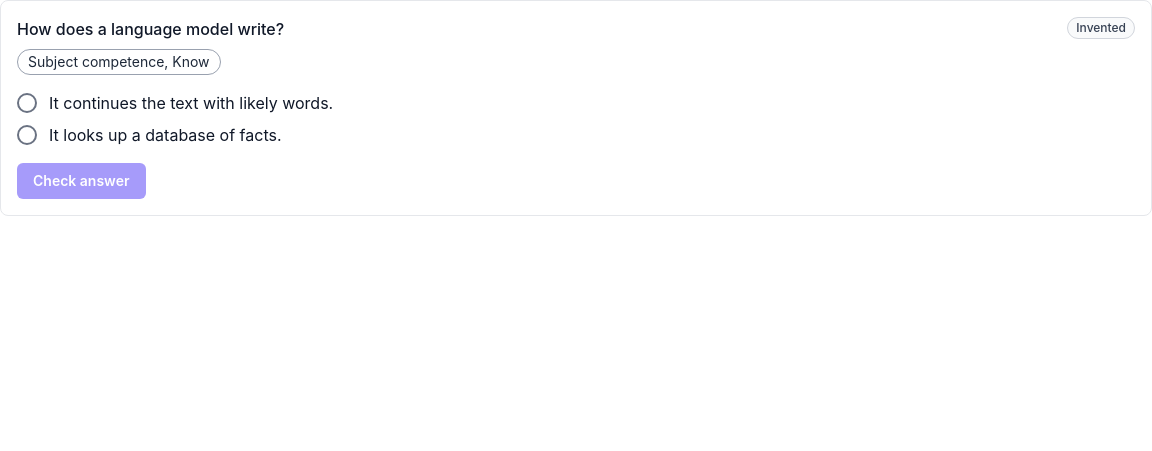
it: SingleChoiceItem › a wrong answer marks the chosen option and the correct one
Click the radio button named "It looks up a database of facts." next to "It looks up a database of facts.".
click(27, 135)  # box [17,125,37,145]
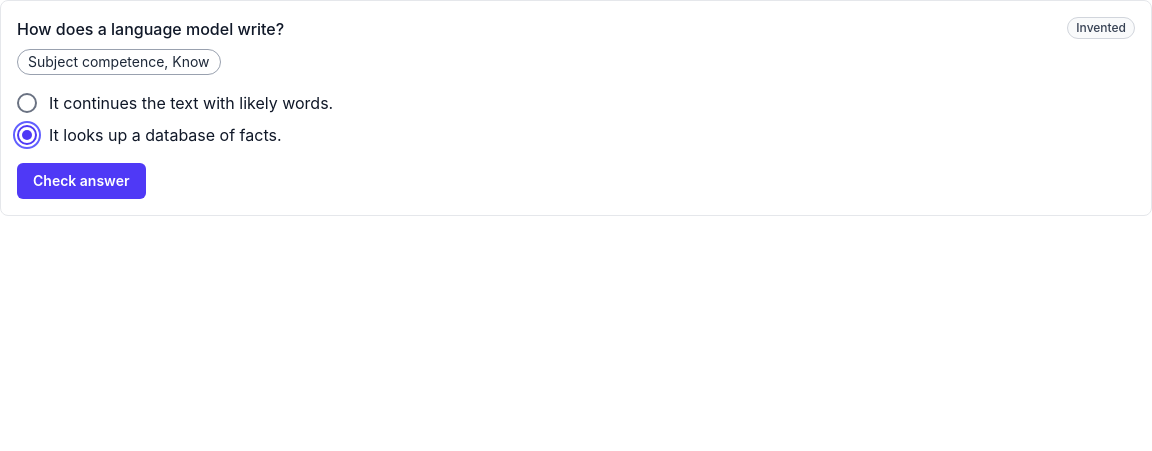
Click the button "Check answer".
click(81, 181)  # box [17,163,146,199]
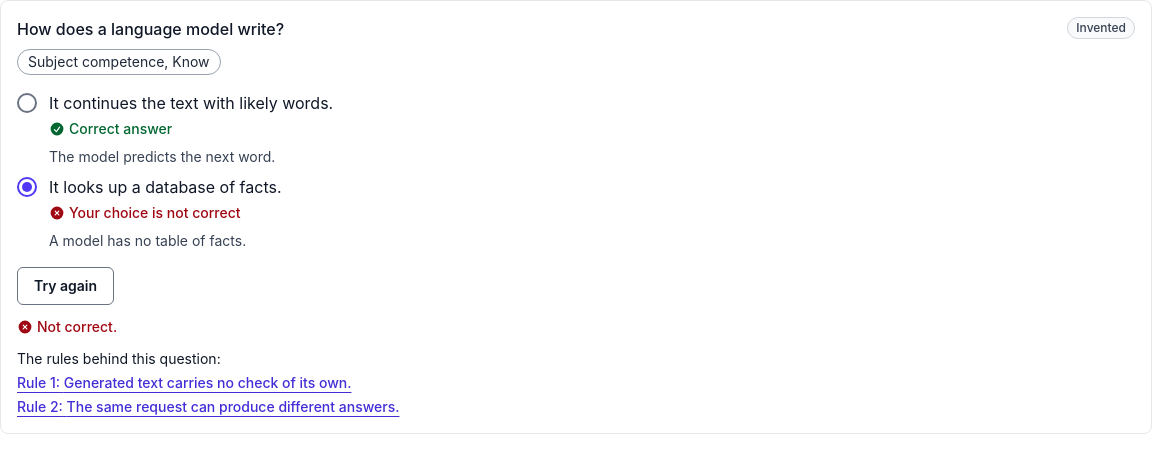
Now the text "Not correct." is shown, box [17,317,117,337]
Now the text "Your choice is not correct" is shown, box [49,203,241,223]
Now the text "Correct answer" is shown, box [49,119,172,139]
